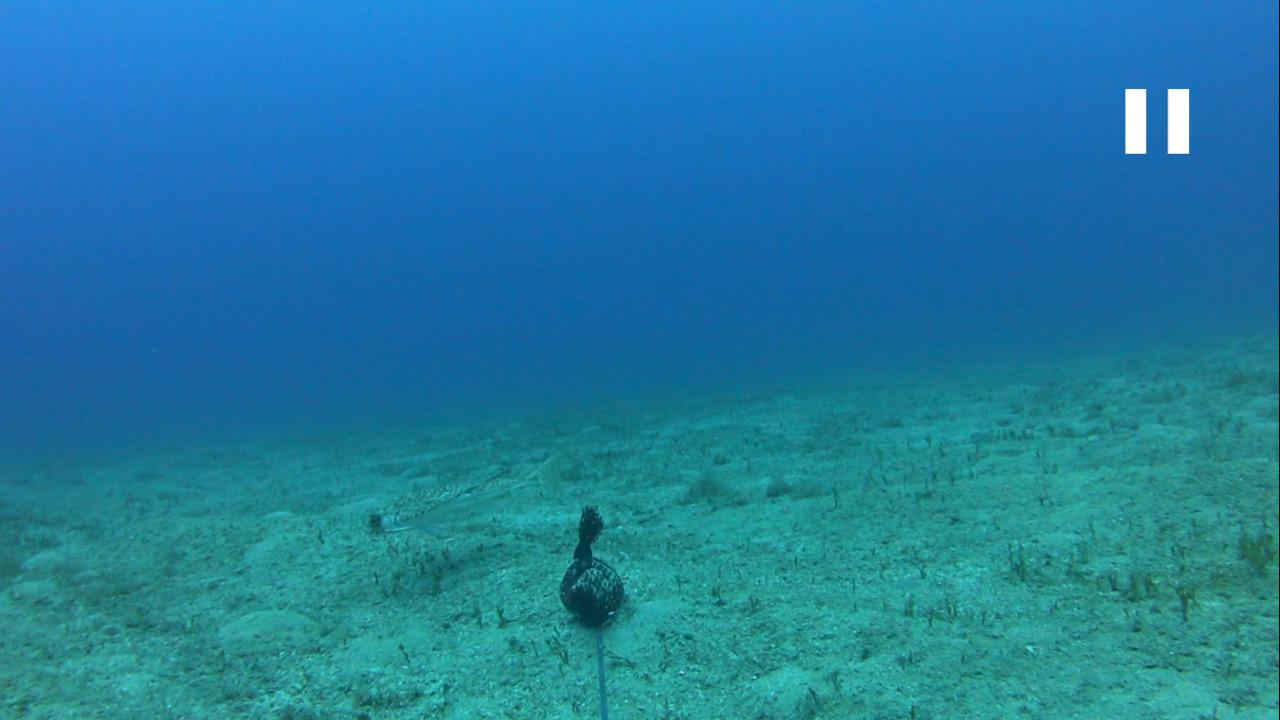dactylopterus: (360, 441, 581, 539)
